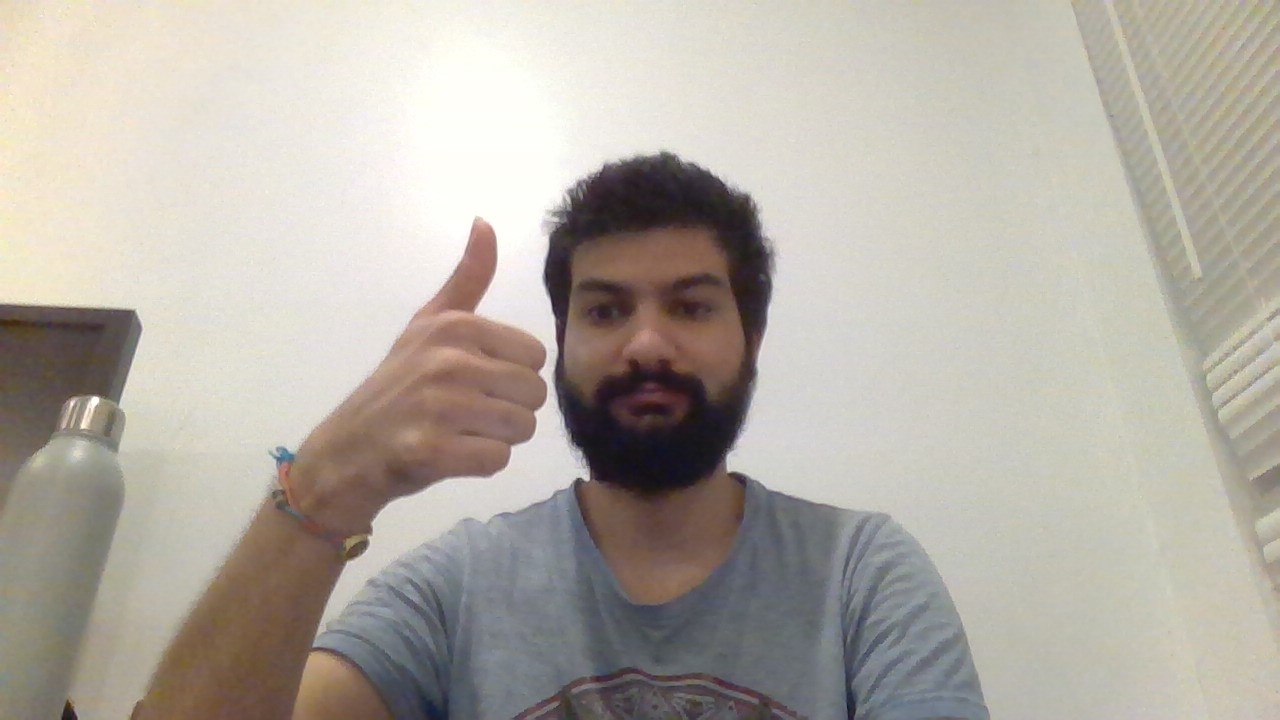up: (382, 206, 552, 485)
